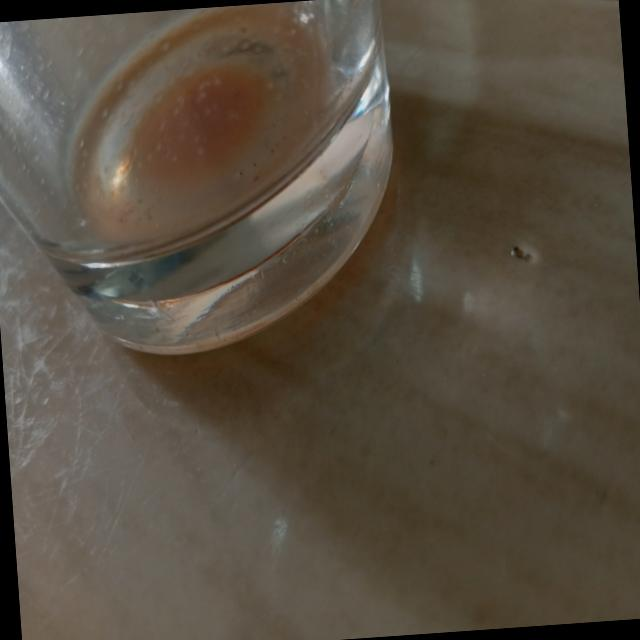glass-VX4N: (0, 0, 407, 367)
